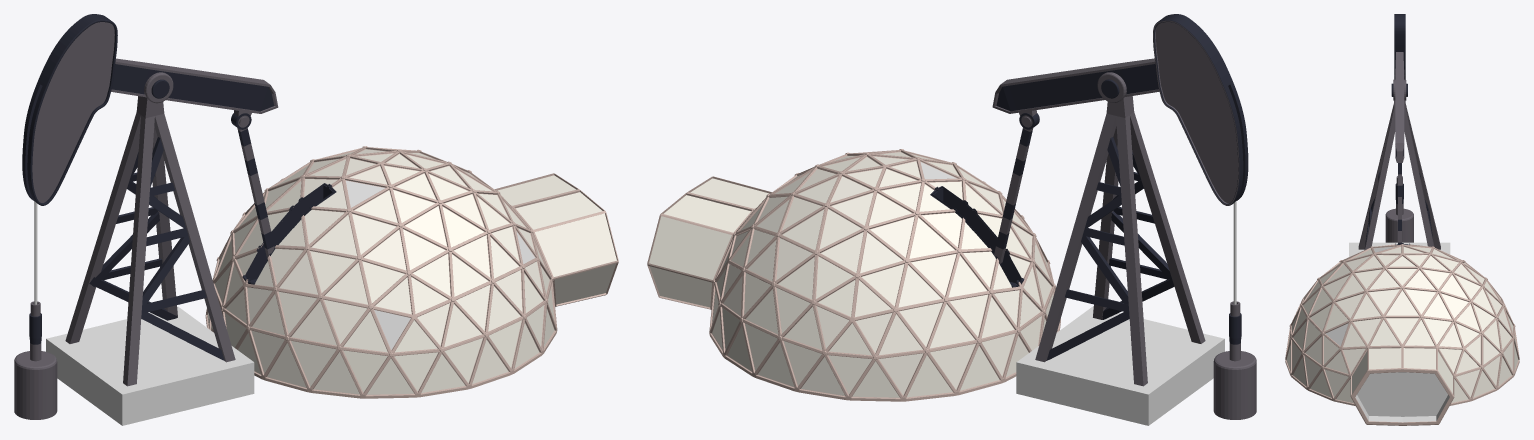
File: Oil-Rig.fbx
The picture shows the model from 3 angles, left to right: view 1: azimuth 30°, elevation 25°; view 2: azimuth 150°, elevation 25°; view 3: azimuth 270°, elevation 25°; orthographic projection. The views are drawn at different scales.
Visible parts, largest first — view 1: Dome_1, Rig-Ground, Oil-Rig_Mount, Pumpen-Gegengewicht, Dome_1_shield, Mittelachse, Pumpen-öffnung, Boole-cube, Dome_tube, Cube.001, Cube.003, Mittelachse-Achse (+3 smaller); view 2: Dome_1, Rig-Ground, Oil-Rig_Mount, Pumpen-Gegengewicht, Dome_1_shield, Mittelachse, Pumpen-öffnung, Boole-cube, Dome_tube, Cube.008, Cube.010, Mittelachse-Achse (+2 smaller); view 3: Dome_1, Dome_1_shield, Oil-Rig_Mount, Mittelachse, Pumpen-öffnung, Pumpen-Gegengewicht, Rig-Ground, Dome_tube.
Boxes of the visible parts, <box> form: Dome_1: <box>205,146,557,398</box>; Rig-Ground: <box>46,306,254,425</box>; Oil-Rig_Mount: <box>65,96,235,386</box>; Pumpen-Gegengewicht: <box>22,14,117,205</box>; Dome_1_shield: <box>494,173,618,306</box>; Mittelachse: <box>111,58,278,116</box>; Pumpen-öffnung: <box>14,301,57,419</box>; Boole-cube: <box>242,183,336,287</box>; Dome_tube: <box>237,128,274,259</box>; Cube.001: <box>141,312,224,360</box>; Cube.003: <box>142,236,189,304</box>; Mittelachse-Achse: <box>144,72,173,103</box>; Dome_1: <box>709,149,1060,401</box>; Rig-Ground: <box>1016,306,1224,425</box>; Oil-Rig_Mount: <box>1035,96,1205,386</box>; Pumpen-Gegengewicht: <box>1153,14,1248,205</box>; Dome_1_shield: <box>647,176,771,309</box>; Mittelachse: <box>992,58,1159,116</box>; Pumpen-öffnung: <box>1213,301,1256,419</box>; Boole-cube: <box>930,186,1024,290</box>; Dome_tube: <box>994,127,1033,266</box>; Cube.008: <box>1046,312,1129,360</box>; Cube.010: <box>1081,235,1128,304</box>; Mittelachse-Achse: <box>1097,72,1126,102</box>; Dome_1: <box>1285,244,1519,405</box>; Dome_1_shield: <box>1350,346,1454,425</box>; Oil-Rig_Mount: <box>1358,101,1440,249</box>; Mittelachse: <box>1395,52,1404,162</box>; Pumpen-öffnung: <box>1385,176,1413,242</box>; Pumpen-Gegengewicht: <box>1394,14,1405,79</box>; Rig-Ground: <box>1349,242,1450,256</box>; Dome_tube: <box>1398,163,1401,244</box>.
Size of the model in its own units: 2215 by 1421 by 1196.
